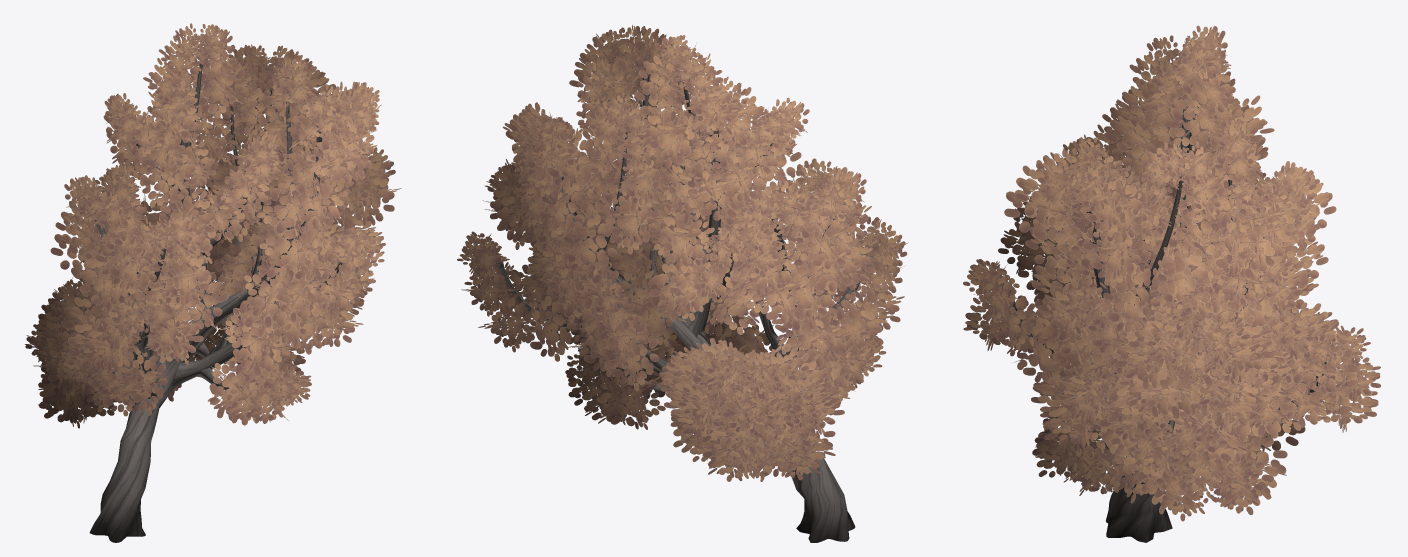
The model's file is TwistedTree_1.glb.
The picture shows the model from 3 angles, left to right: view 1: azimuth 30°, elevation 25°; view 2: azimuth 150°, elevation 25°; view 3: azimuth 270°, elevation 25°; orthographic projection. The views are drawn at different scales.
Visible parts, largest first — view 1: TwistedTree_1; view 2: TwistedTree_1; view 3: TwistedTree_1.
Boxes of the visible parts, box(x1,y1,x2,y2) form: TwistedTree_1: box(25, 23, 401, 542); TwistedTree_1: box(457, 25, 908, 542); TwistedTree_1: box(963, 25, 1380, 542).
Size of the model in its own units: 13.95 by 16.88 by 11.93.
2 materials, 2 textured.
